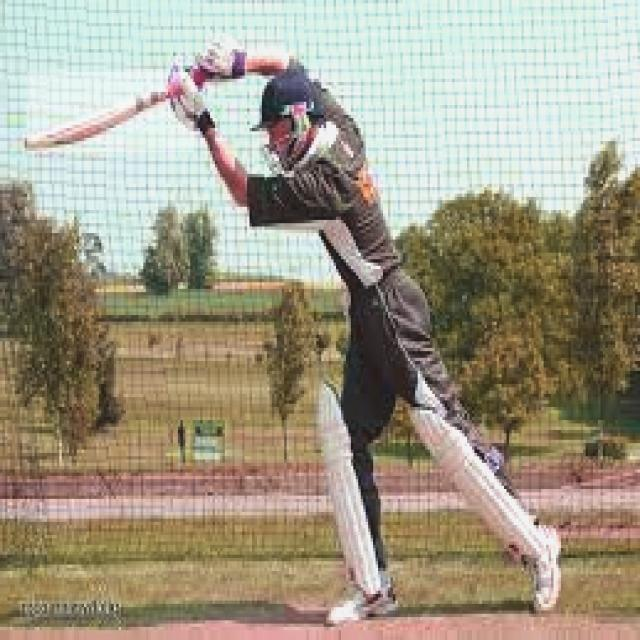bat: (20, 79, 179, 152)
